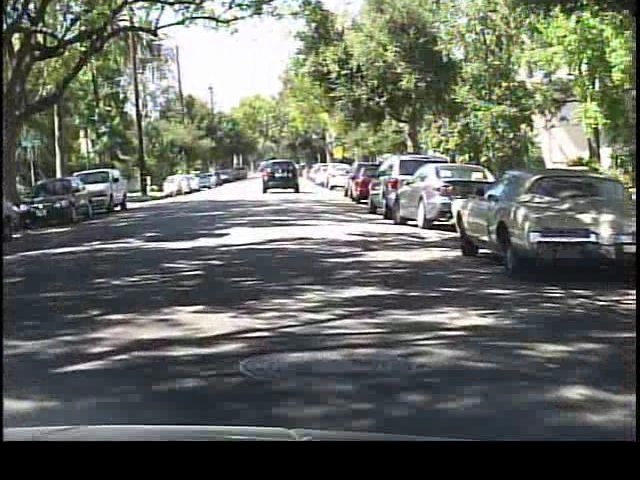person: (172, 167, 188, 200)
